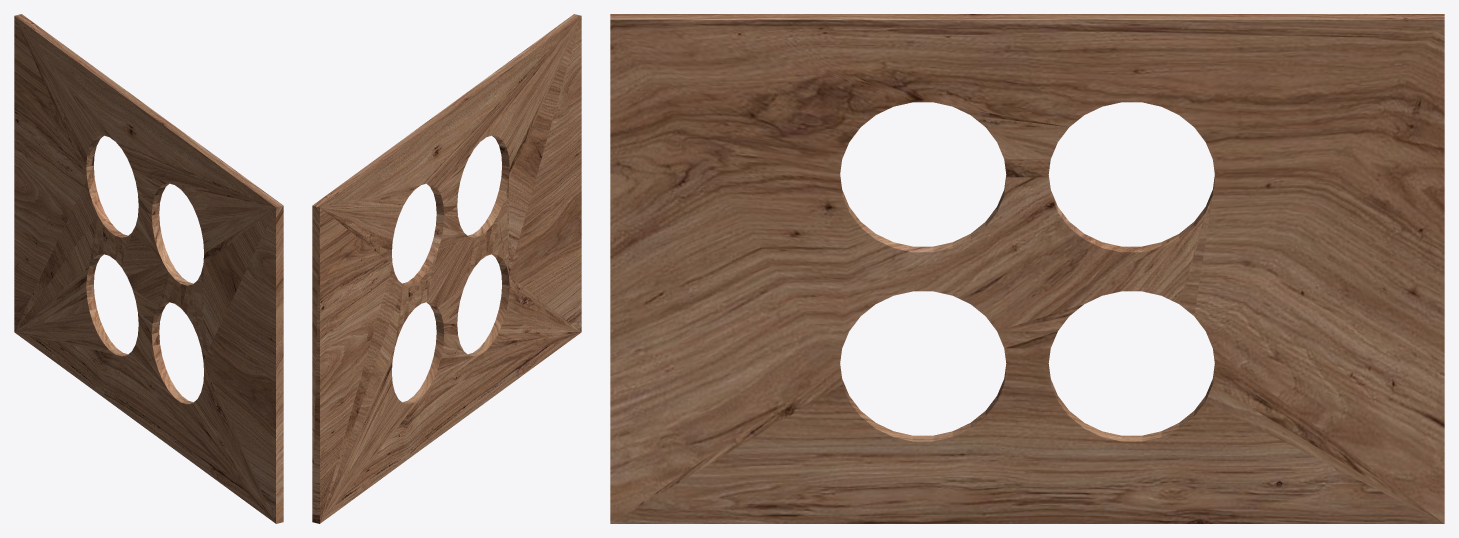
The model's file is wood_pattern.dae.
The picture shows the model from 3 angles, left to right: view 1: azimuth 30°, elevation 25°; view 2: azimuth 150°, elevation 25°; view 3: azimuth 270°, elevation 25°; orthographic projection. The views are drawn at different scales.
Parts seen in each view (by area): view 1: node0; view 2: node0; view 3: node0.
Part boxes in pixels (x1=…): node0: x1=14, y1=14, x2=283, y2=523; node0: x1=312, y1=14, x2=581, y2=523; node0: x1=610, y1=14, x2=1444, y2=523.
Bounding box in the file's own units: 0.02 × 1.2 × 0.8.
Materials: 1 (1 with a texture image).
